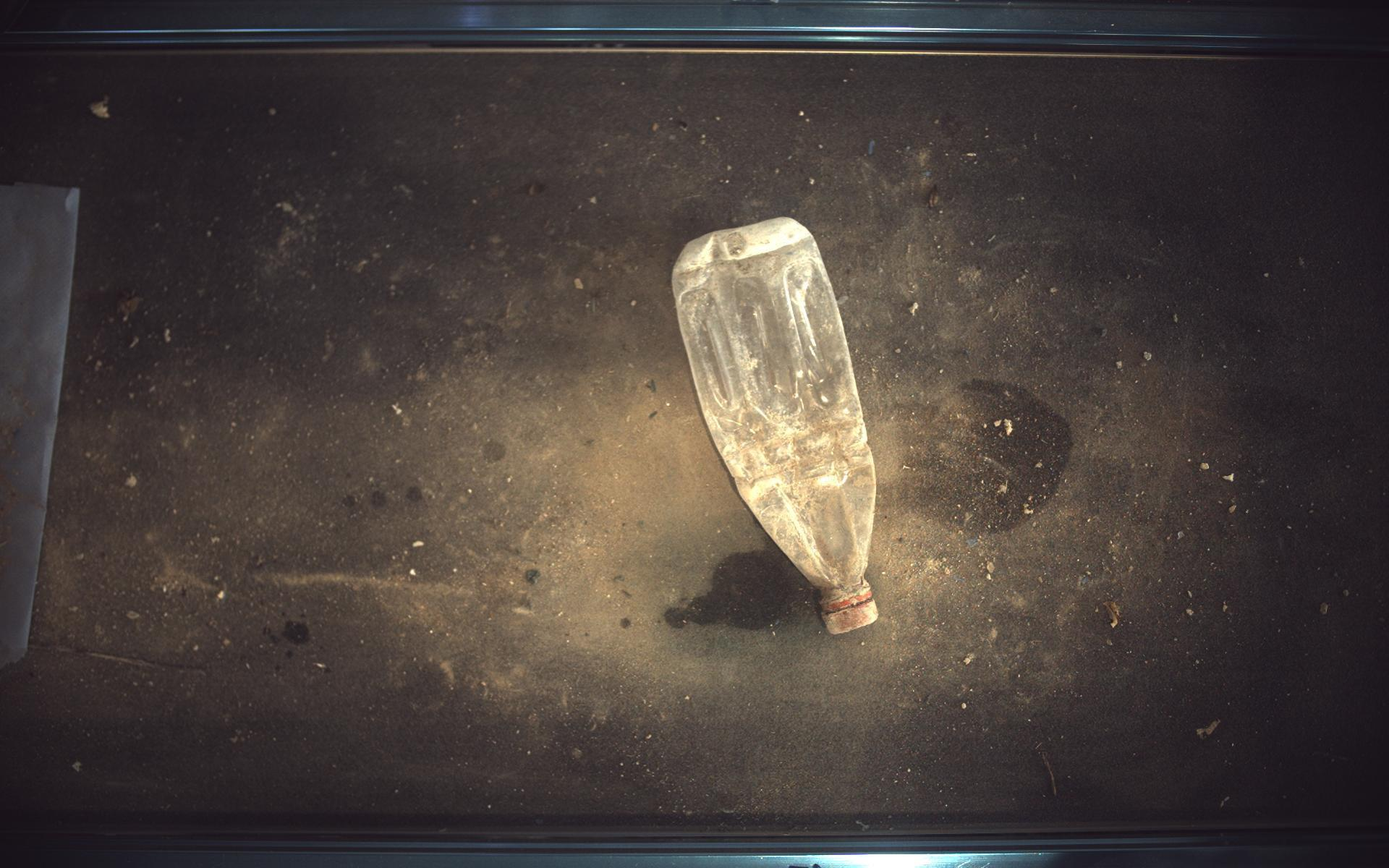general_w: (673, 217, 880, 635)
